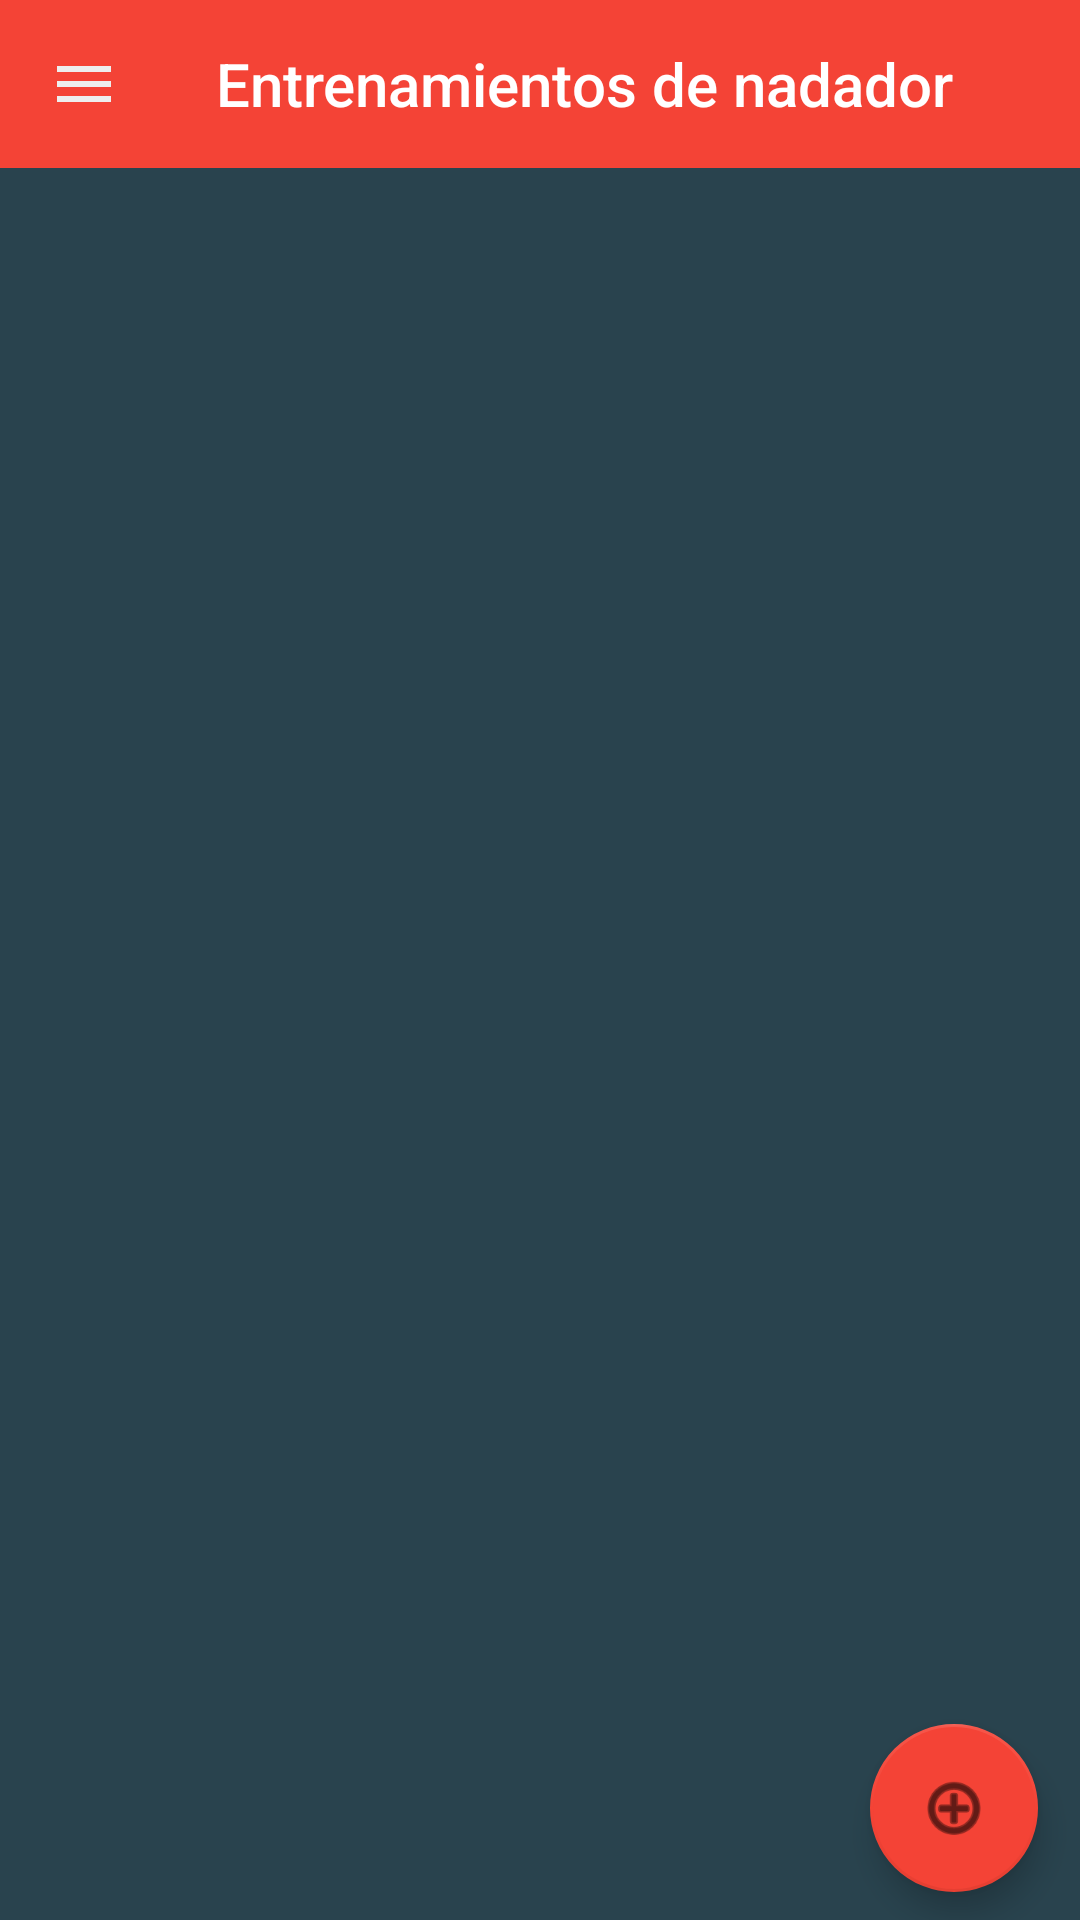

Where to tap for icons on this 1080px×1920px app screen, as point (x, y):
Añadir Entrenamiento: point (954, 1808)
